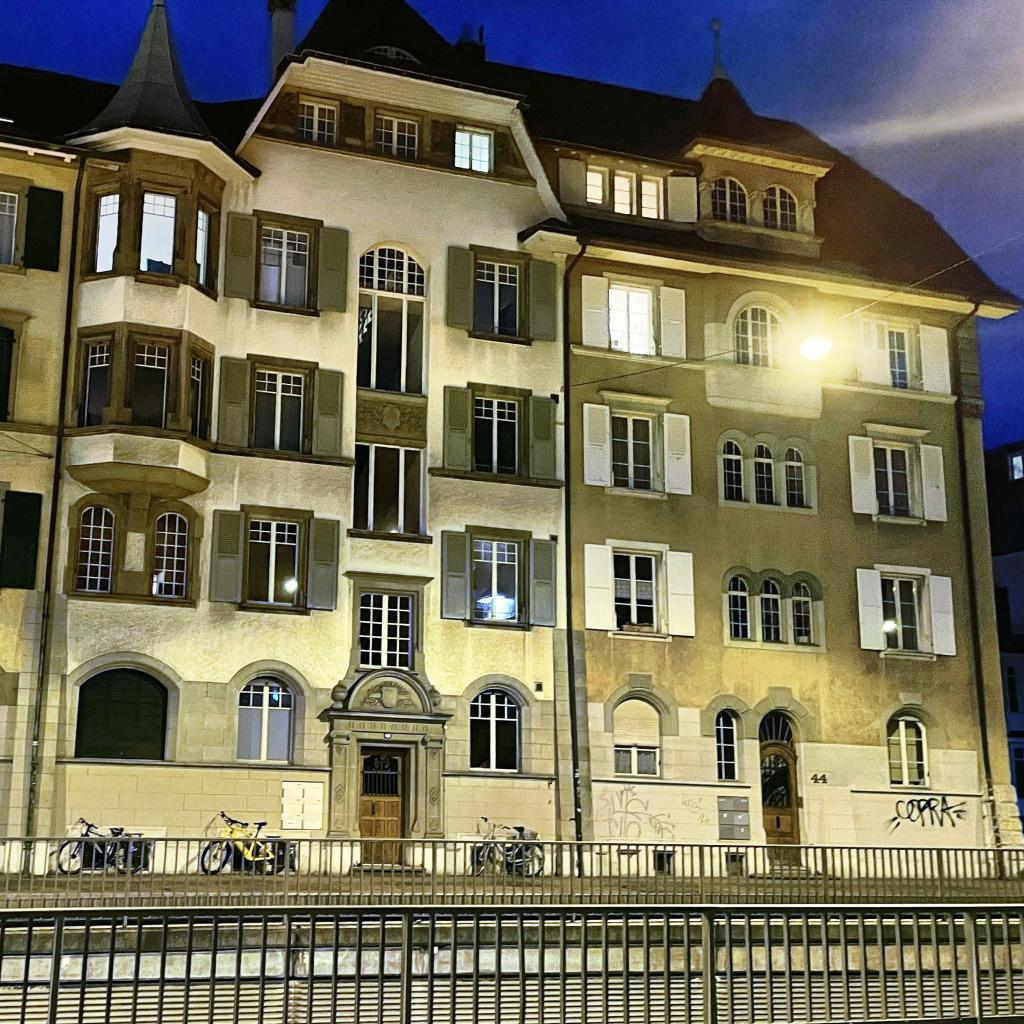facade: (0, 61, 1024, 880)
fence: (0, 835, 1024, 1024)
window: (357, 245, 426, 397), (74, 666, 169, 761), (353, 441, 424, 535), (236, 674, 294, 765), (245, 518, 300, 606), (257, 224, 310, 311), (472, 534, 523, 623), (252, 368, 305, 453), (470, 686, 519, 773), (360, 593, 414, 670), (613, 550, 659, 636), (613, 696, 661, 778), (472, 258, 519, 340), (608, 278, 657, 356), (734, 303, 790, 371), (473, 395, 519, 477), (75, 504, 115, 593), (151, 511, 189, 600), (610, 414, 654, 490), (886, 713, 930, 788), (881, 574, 923, 652), (140, 189, 177, 276), (862, 323, 911, 388), (132, 342, 168, 428), (873, 444, 913, 517), (84, 341, 110, 427), (93, 190, 118, 273), (375, 113, 418, 160), (711, 175, 750, 225), (298, 99, 337, 145), (763, 184, 799, 233), (455, 127, 492, 174), (716, 709, 738, 782), (728, 576, 751, 642), (0, 191, 19, 268), (0, 326, 15, 423), (760, 578, 782, 642), (722, 440, 744, 501), (792, 582, 813, 644), (188, 353, 203, 439), (754, 443, 775, 503), (785, 447, 806, 507), (196, 204, 211, 286), (364, 45, 421, 64), (614, 173, 633, 215), (587, 169, 606, 210), (642, 178, 660, 220)
